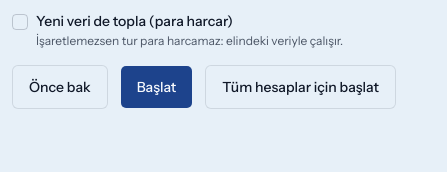
Test: RoutineStarter: haftalık tur › 'Tüm hesaplar' açılamazsa sebep yazılır
Click the button "Tüm hesaplar için başlat" at (301, 87), box 205,65 -> 396,109
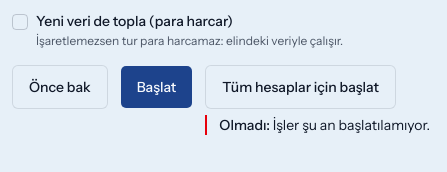
Result: the message reads "Olmadı: İşler şu an başlatılamıyor." at 205,115 -> 430,135
